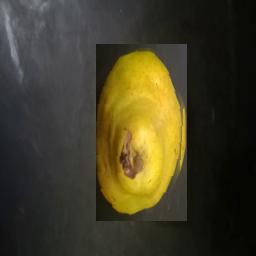Pear Semifresh: (96, 44, 187, 221)
